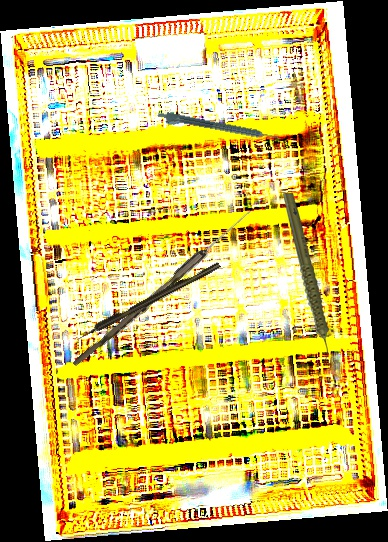Handpiece: (282, 193, 330, 361), (155, 110, 280, 147)
Hook Surgical: (74, 261, 222, 342)
Surgical Spoon: (72, 206, 254, 371)
